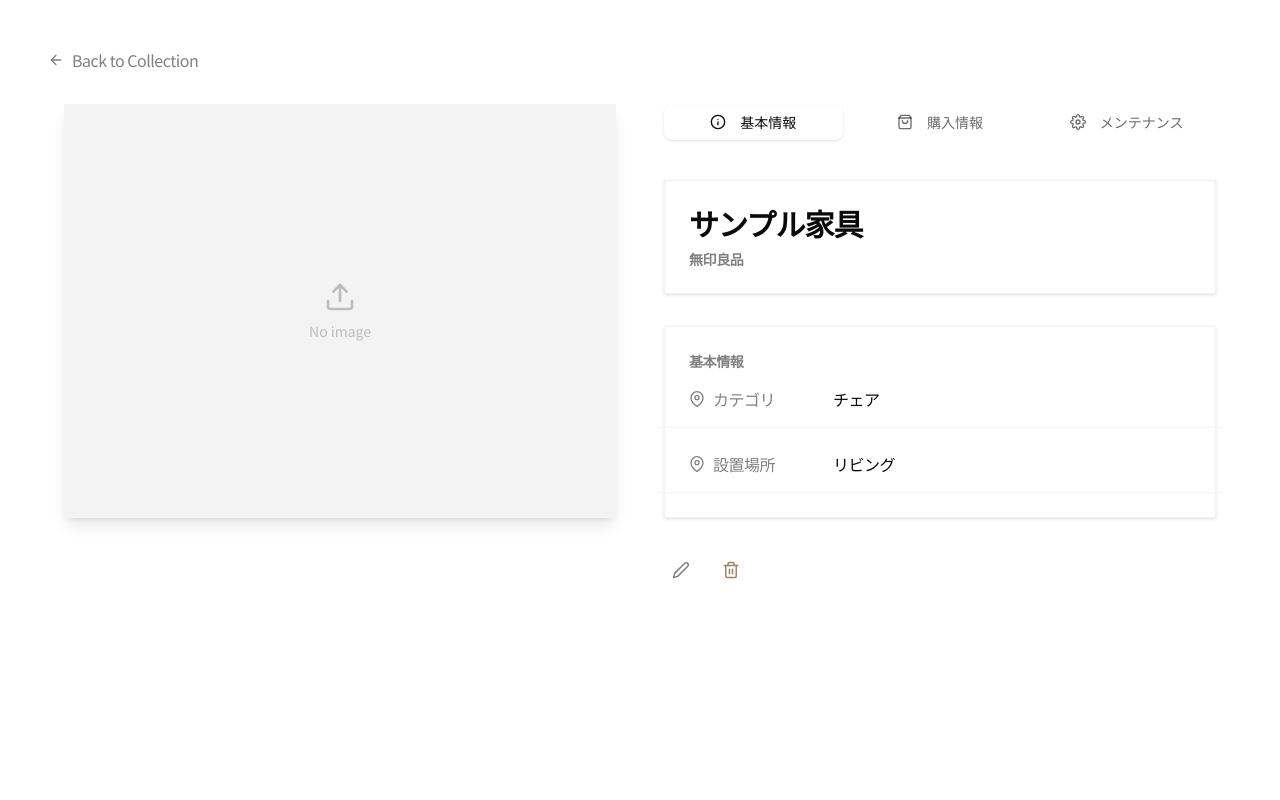
Test: FurnitureDetailClient › フォームバリデーション › 名前が空の場合、エラーメッセージが表示される
Click the button named "編集": (681, 570) [664,550,698,590]
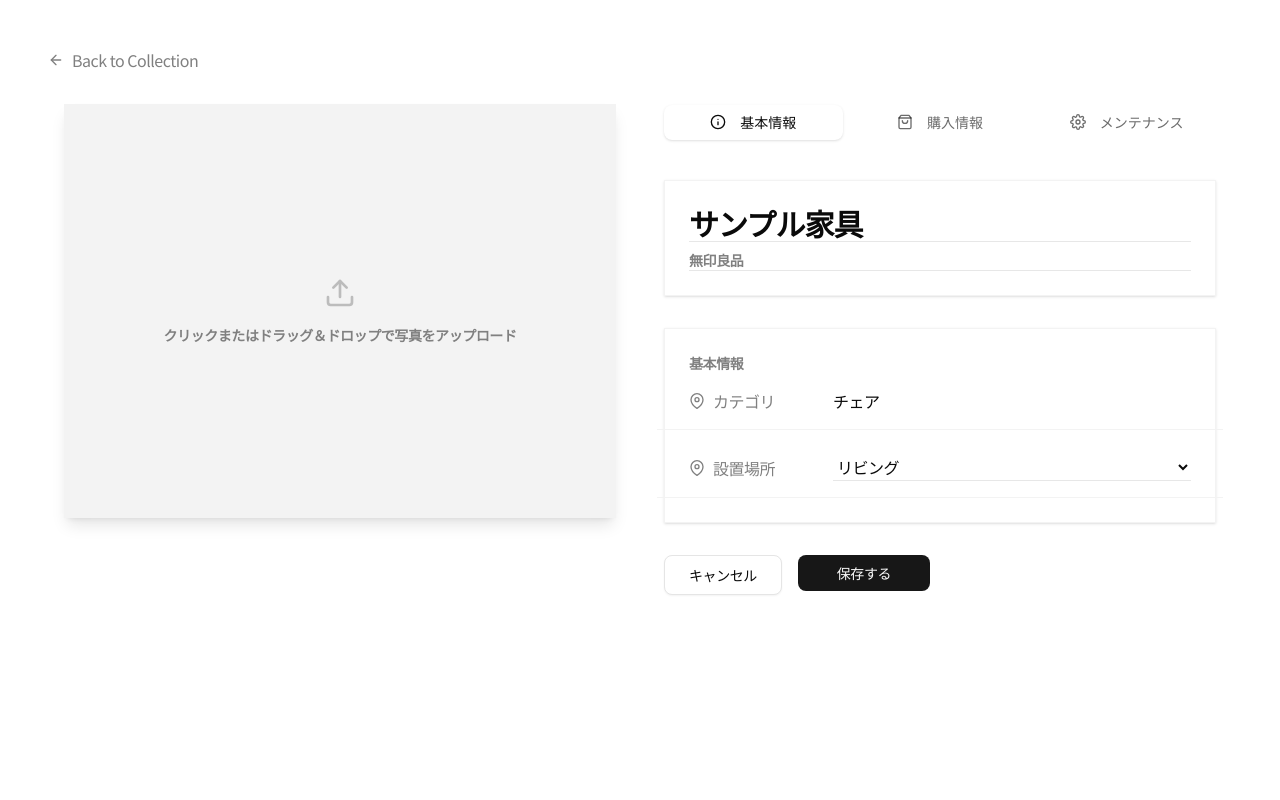
Clear the 1st field showing "サンプル家具": (940, 224) [689,205,1191,242]
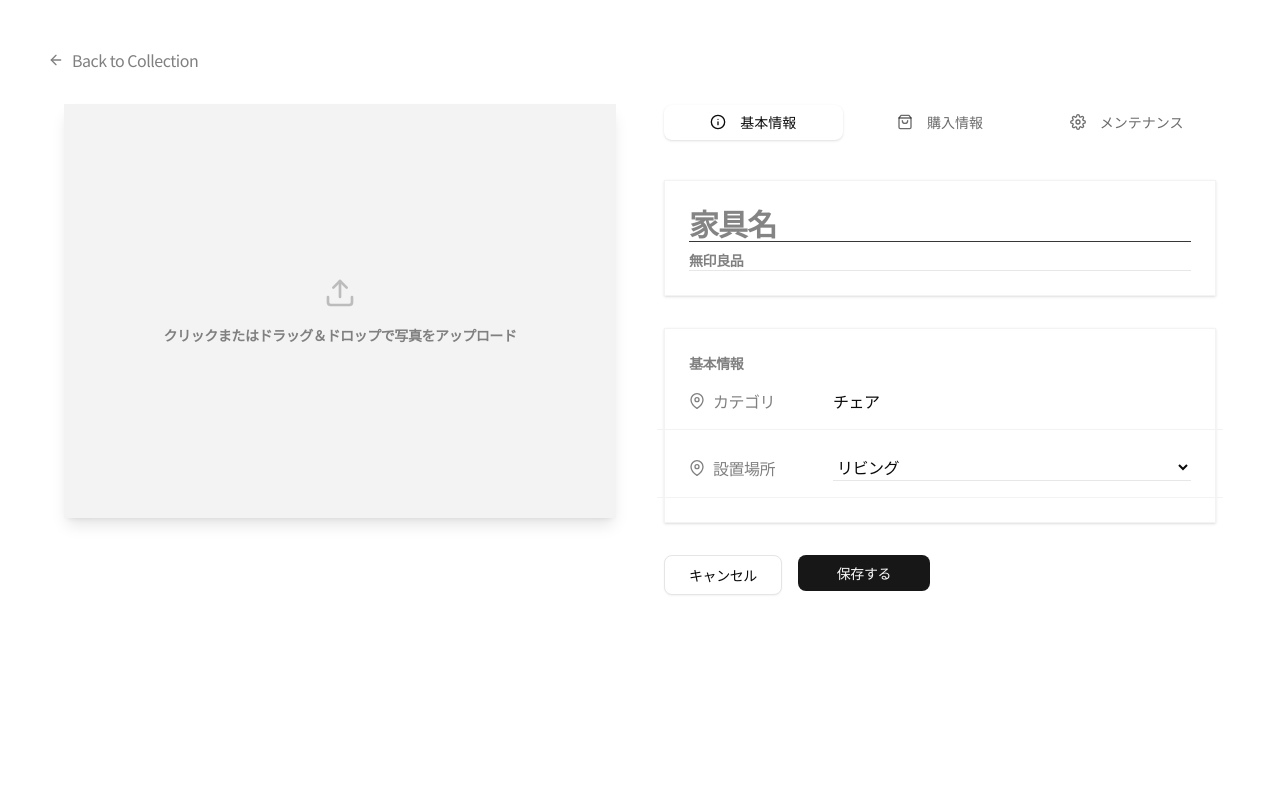
Click the button "保存する": (864, 573) [798,555,930,591]
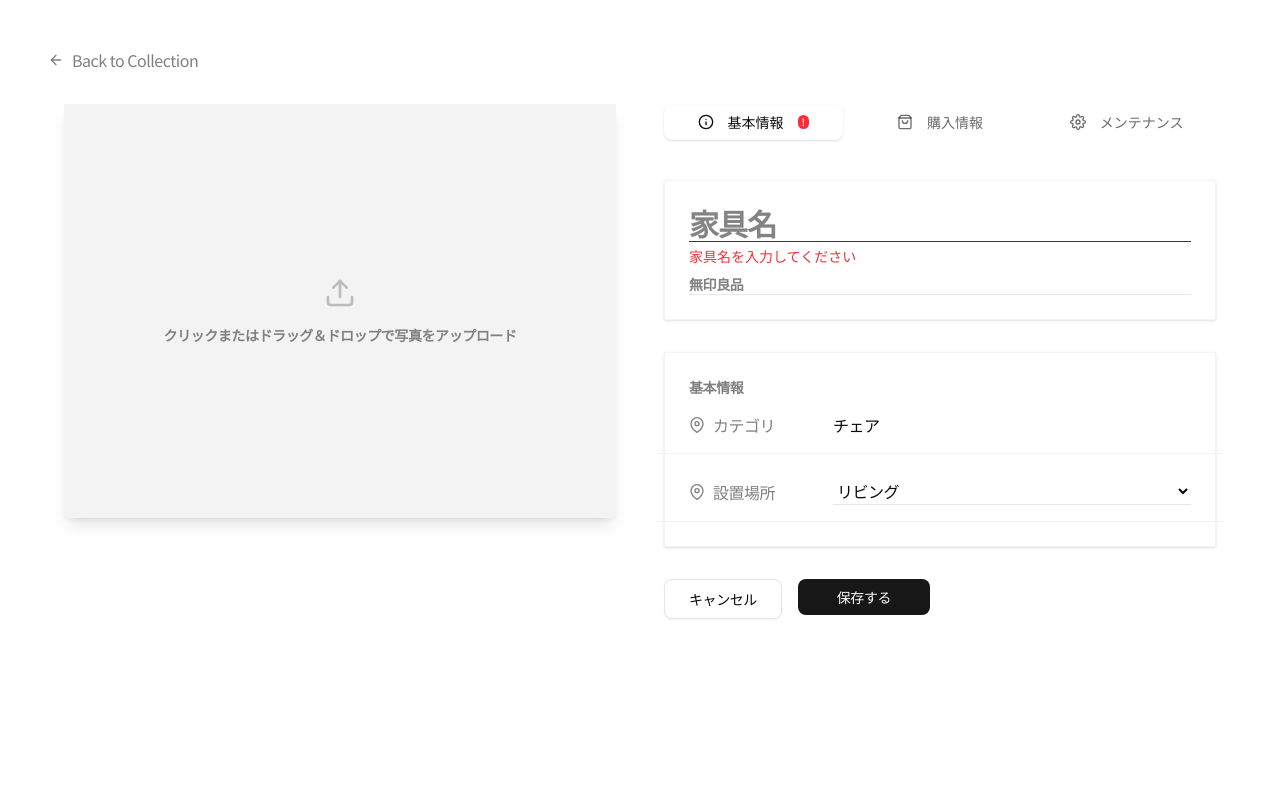
Check: the text "家具名を入力してください" is shown, box [689,246,856,266]
